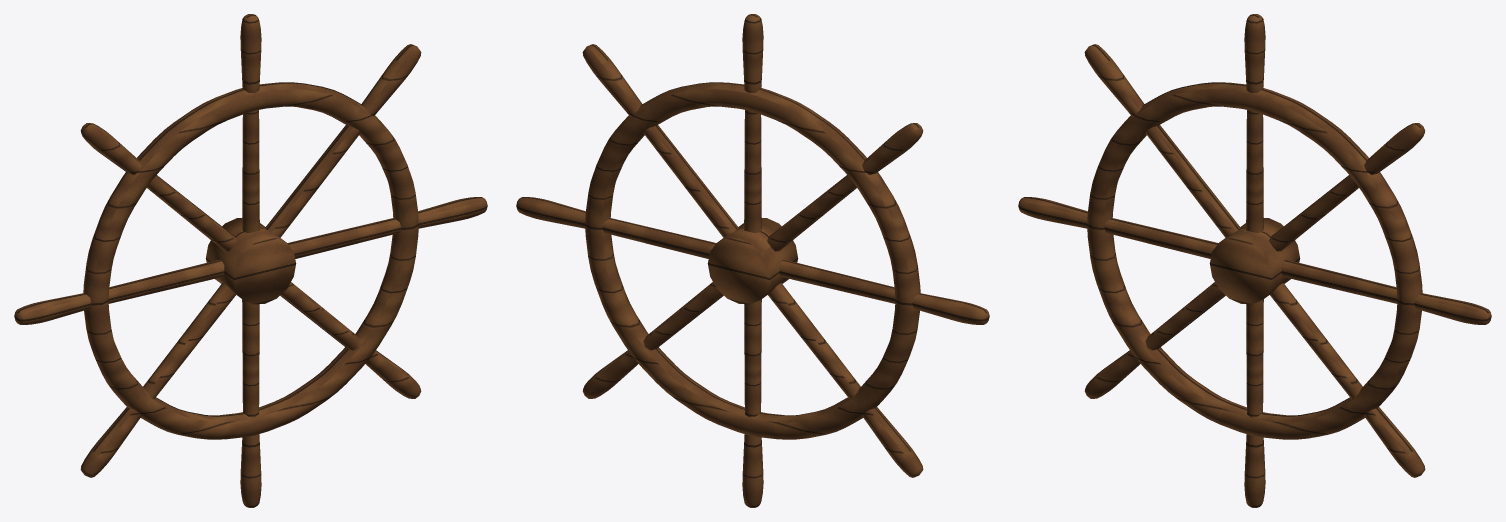
File: timon.fbx
3 renders of one model, left to right at view 1: azimuth 30°, elevation 25°; view 2: azimuth 150°, elevation 25°; view 3: azimuth 330°, elevation 25°, orthographic.
Parts seen in each view (by area): view 1: timon; view 2: timon; view 3: timon.
Part boxes in pixels (x1,y1,x2,y2): timon: [14, 14, 487, 507]; timon: [516, 14, 989, 507]; timon: [1018, 14, 1491, 507].
Bounding box in the file's own units: 1.36 × 1.36 × 0.14.
Materials: 1 (1 with a texture image).
